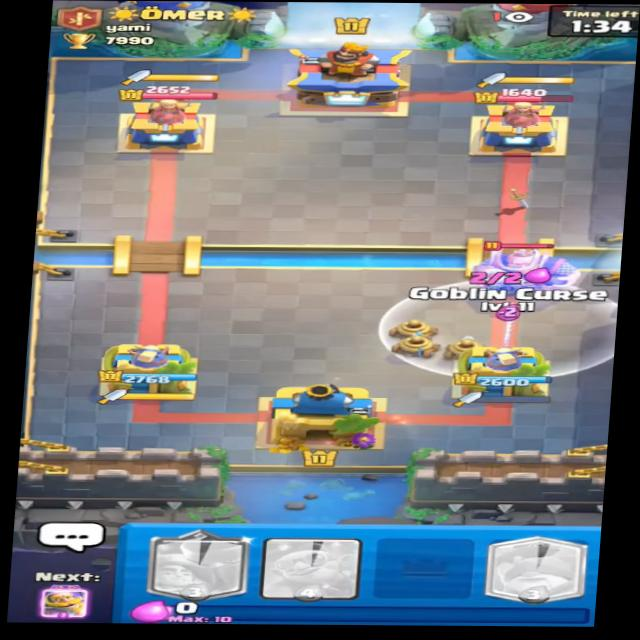Royalgiant: (457, 236, 581, 296)
